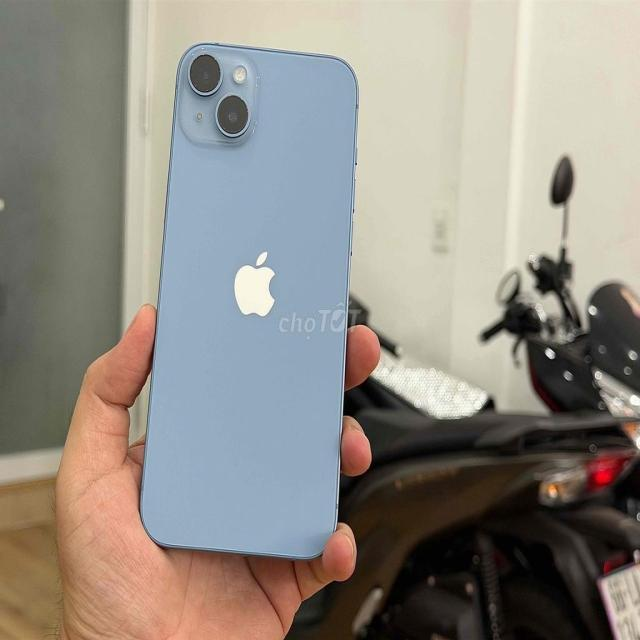gen_14: (138, 36, 355, 567)
